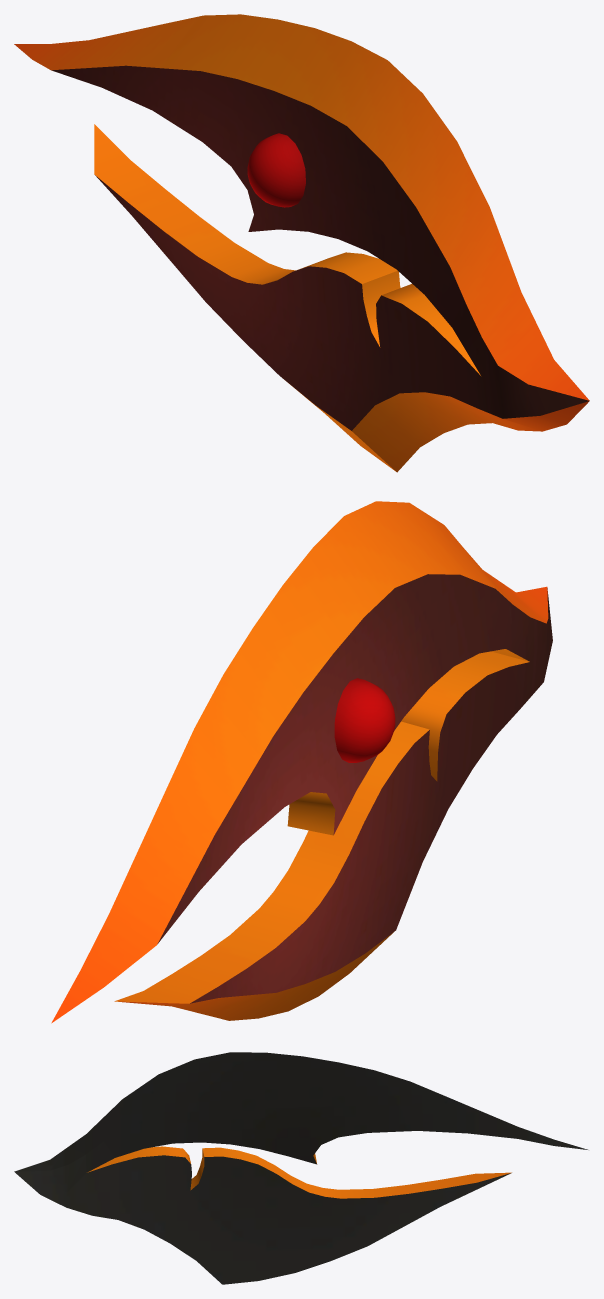
File: fire_shield_f31b4ed7.glb
The picture shows the model from 3 angles, top to bottom: view 1: azimuth 30°, elevation 25°; view 2: azimuth 150°, elevation 25°; view 3: azimuth 270°, elevation 25°; orthographic projection. The views are drawn at different scales.
Size of the model in its own units: 0.1219 by 0.4772 by 1.07.
1 material, 1 textured.
